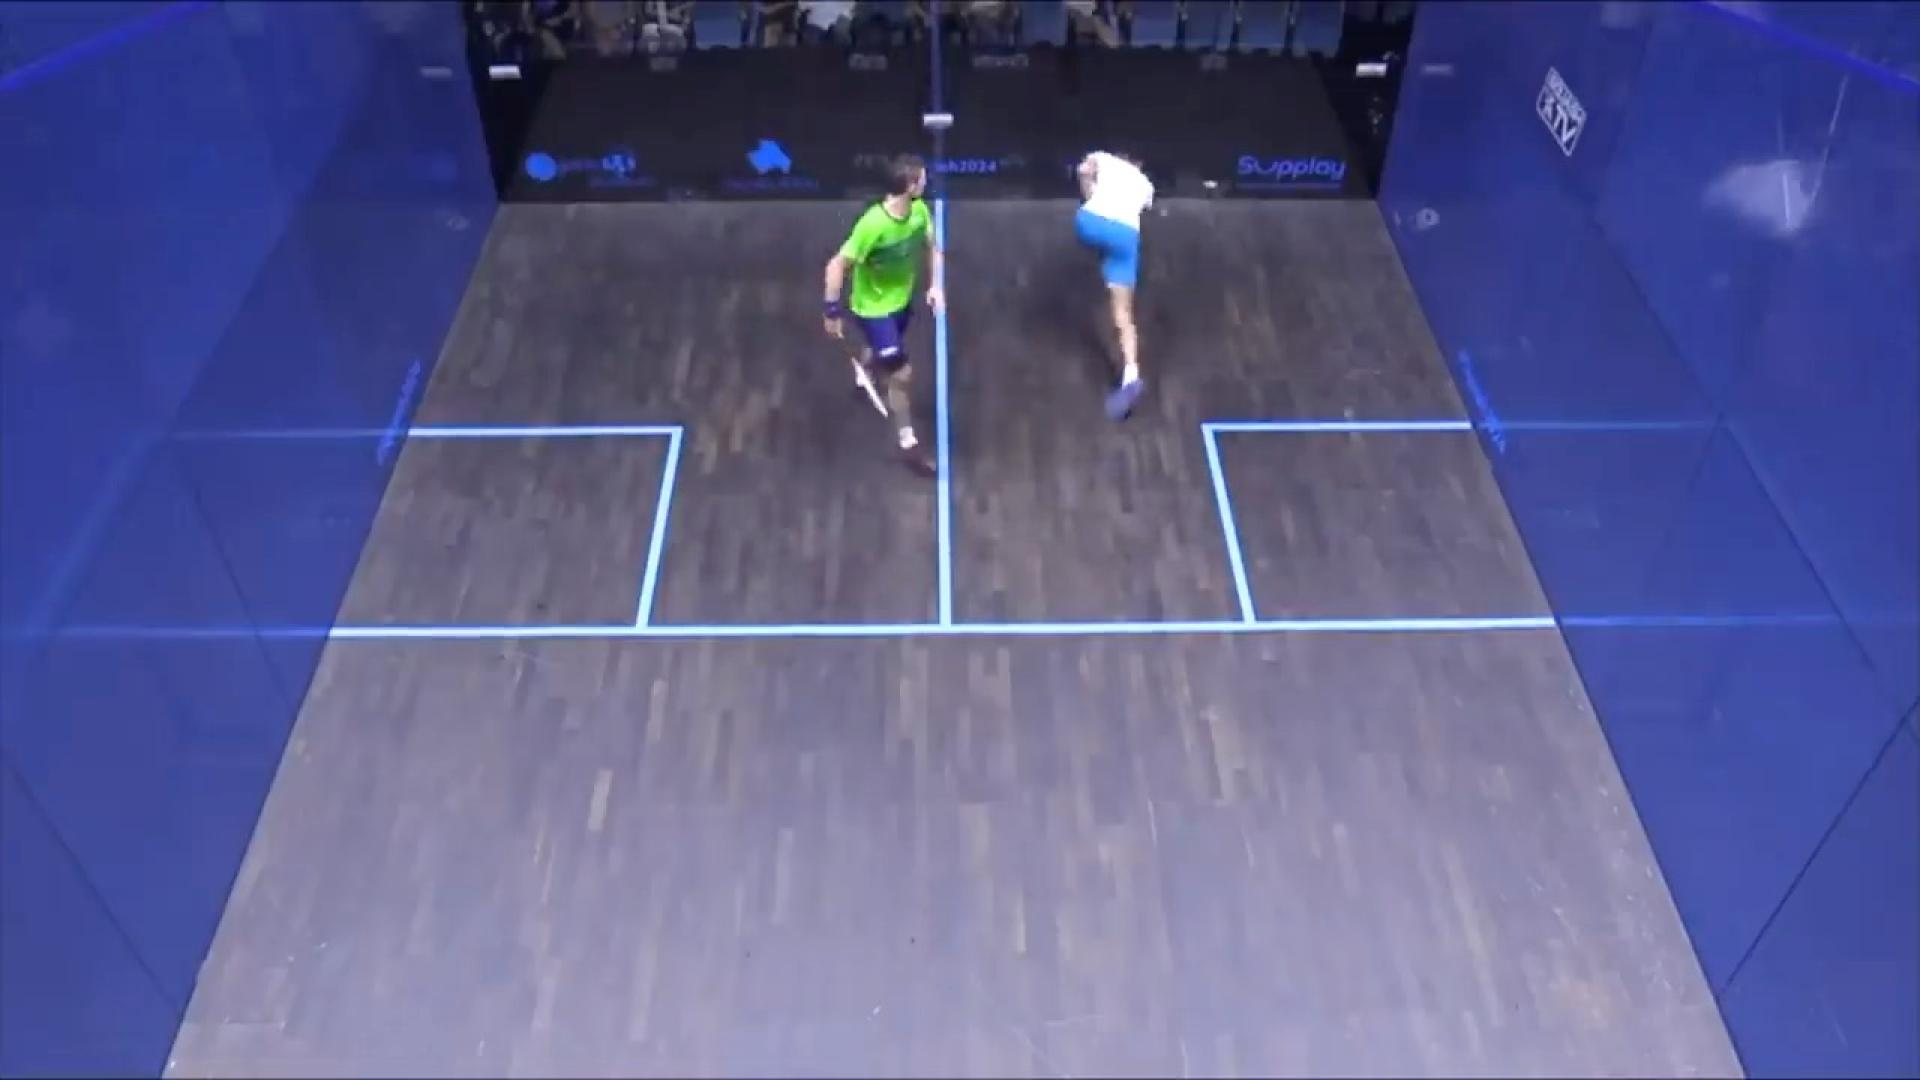Squash-Ball: (1197, 170, 1230, 204)
